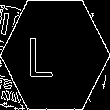L_N: (42, 30, 68, 80)
